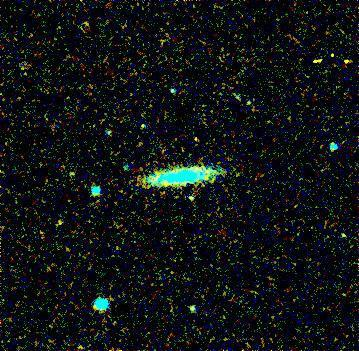star: (177, 183, 207, 213)
